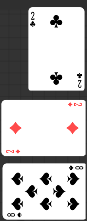2C: (75, 72, 83, 89)
2D: (4, 149, 21, 155)
AC: (29, 11, 36, 29)
